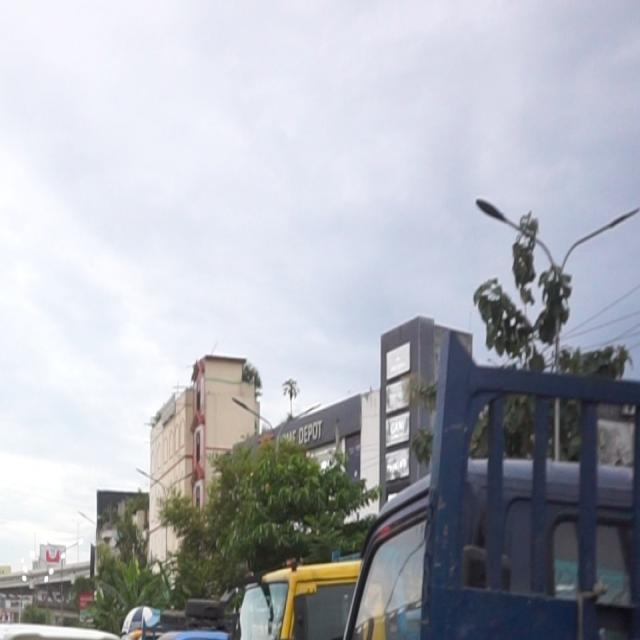van: (262, 314, 640, 640), (196, 518, 436, 640), (107, 585, 256, 640)
